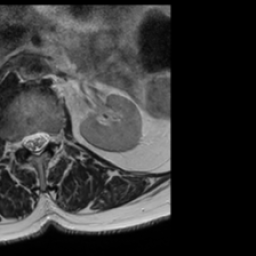CCS_normal: (32, 123, 41, 161)
LFS_normal: (50, 123, 59, 152)
LLS_normal: (41, 123, 50, 154)
RFS_normal: (14, 128, 23, 157)
RLS_normal: (23, 125, 32, 158)
